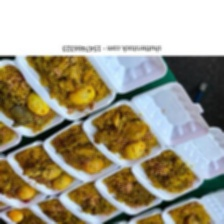foam_box: (79, 79, 212, 169), (11, 55, 171, 123), (128, 125, 224, 203), (0, 55, 66, 158), (40, 118, 122, 185), (5, 136, 84, 200), (90, 166, 164, 217), (56, 179, 124, 224), (0, 157, 51, 212), (160, 189, 224, 223), (0, 202, 53, 224), (112, 209, 173, 223)
